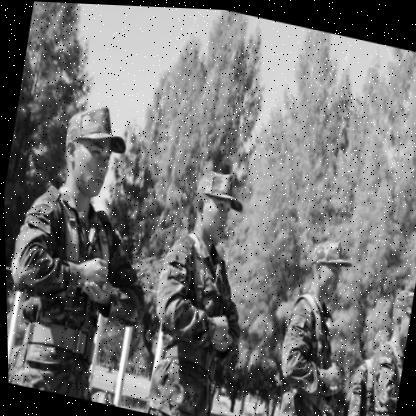police_car: (2, 94, 148, 403), (136, 136, 270, 416), (257, 224, 360, 416), (360, 276, 416, 416), (338, 322, 392, 416)
